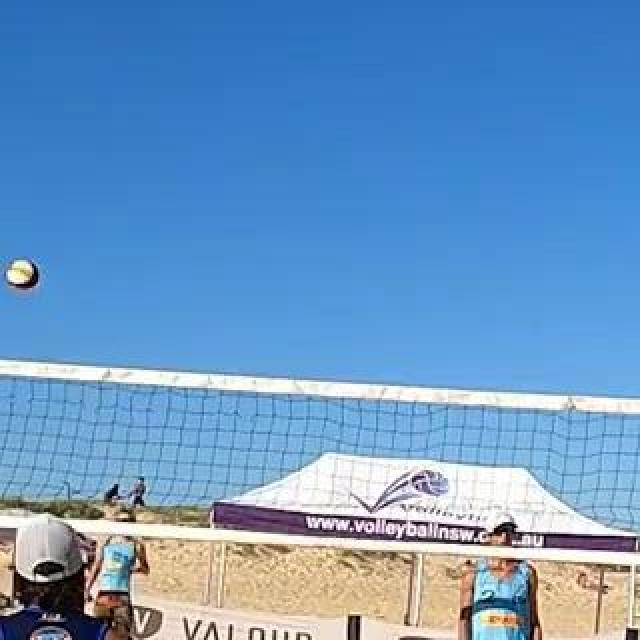volleyball: (8, 258, 42, 290)
